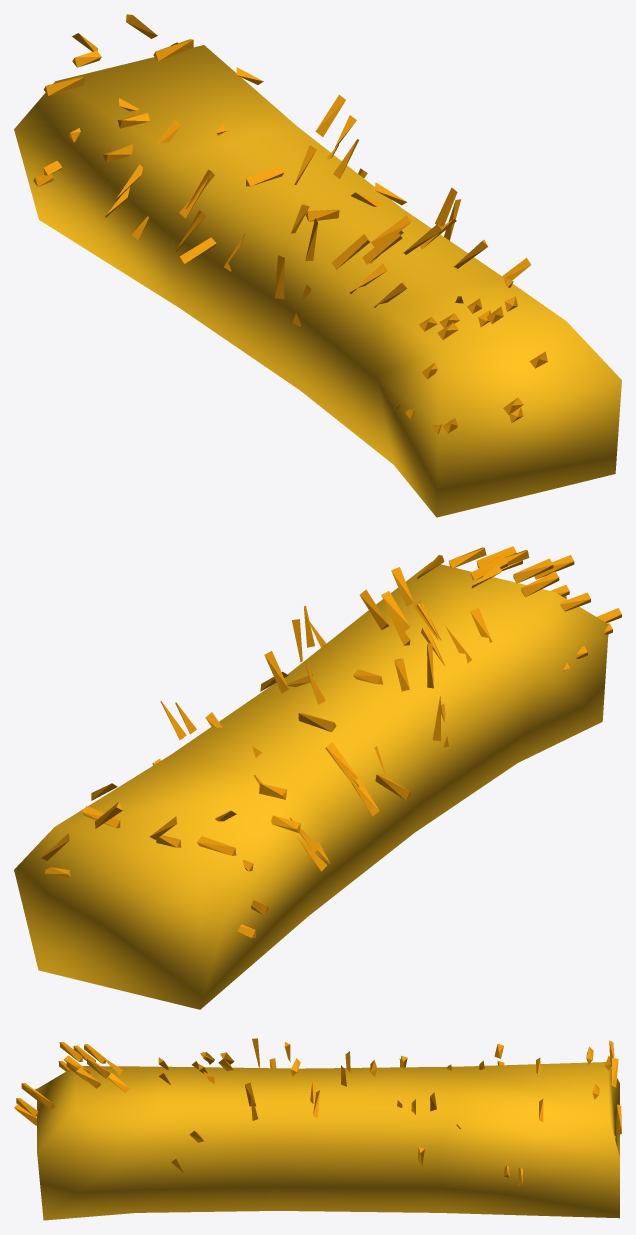
File: Saman.fbx
3 views of the same model, one above another, from view 1: azimuth 30°, elevation 25°; view 2: azimuth 150°, elevation 25°; view 3: azimuth 270°, elevation 25° (orthographic). The views are drawn at different scales.
Visible parts, largest first — view 1: Saman; view 2: Saman; view 3: Saman.
Part boxes in pixels (<box>): Saman: <box>14,14,621,517</box>; Saman: <box>14,546,621,1009</box>; Saman: <box>14,1038,621,1220</box>.
Bounding box in the file's own units: 0.3044 × 0.2443 × 0.974.
